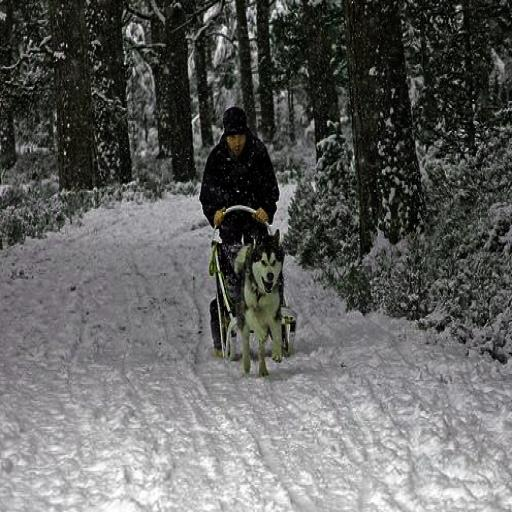dog_face: (244, 229, 286, 294)
